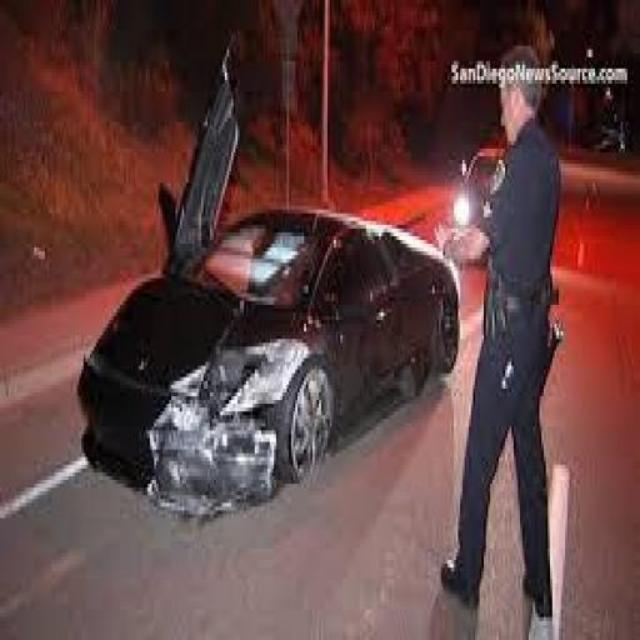no part: (146, 323, 342, 512)
